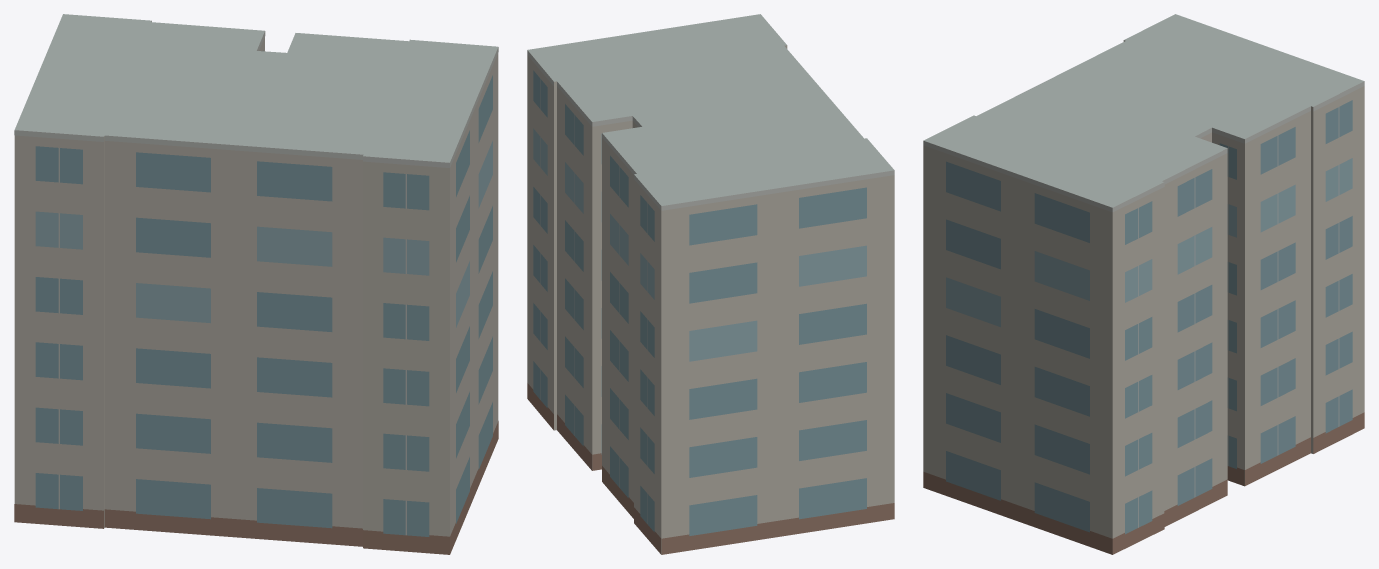
The model's file is survey-upis-32935707.glb.
3 renders of one model, left to right at view 1: azimuth 30°, elevation 25°; view 2: azimuth 150°, elevation 25°; view 3: azimuth 270°, elevation 25°, orthographic. The views are drawn at different scales.
Parts seen in each view (by area): view 1: survey-upis-32935707.tmp; view 2: survey-upis-32935707.tmp; view 3: survey-upis-32935707.tmp.
Part boxes in pixels (x1,y1,x2,y2): survey-upis-32935707.tmp: (14, 14, 498, 554); survey-upis-32935707.tmp: (527, 14, 894, 554); survey-upis-32935707.tmp: (923, 14, 1364, 554).
Bounding box in the file's own units: 21.56 × 18 × 20.74.
